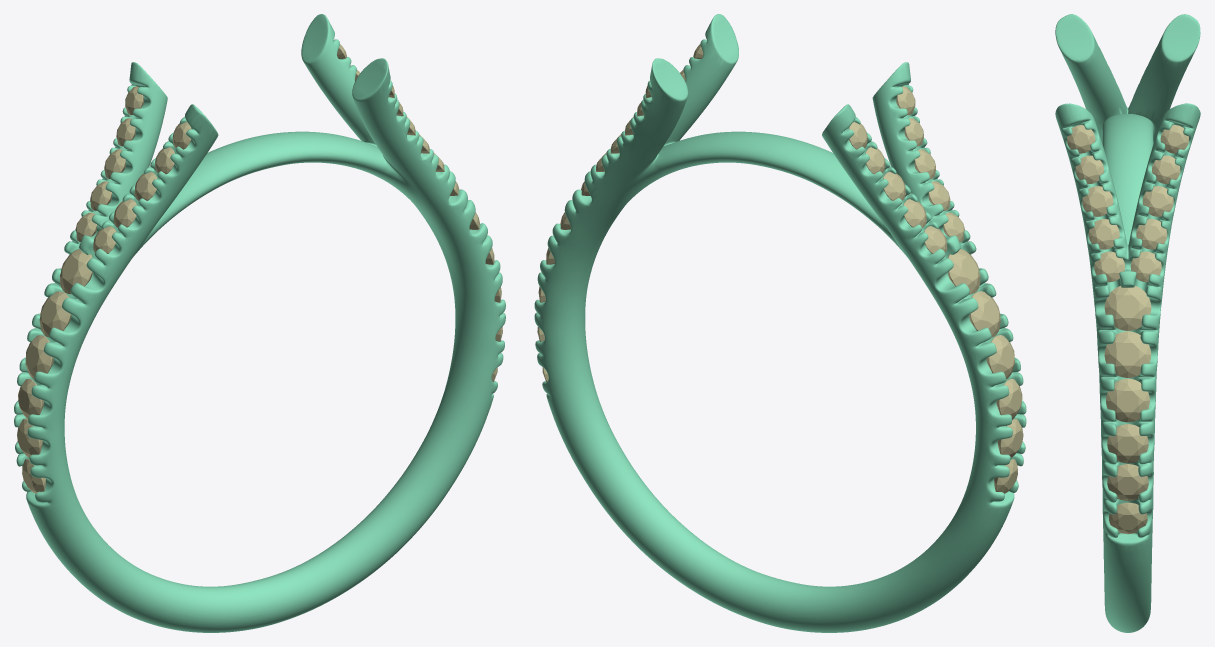
3 views of the same model, side by side, from view 1: azimuth 30°, elevation 25°; view 2: azimuth 150°, elevation 25°; view 3: azimuth 270°, elevation 25° (orthographic). The views are drawn at different scales.
Parts seen in each view (by area): view 1: Metal02, Diamond_Gem.005, Diamond_Gem.004, Diamond_Gem.003; view 2: Metal02, Diamond_Gem.005, Diamond_Gem.004, Diamond_Gem.003; view 3: Metal02, Diamond_Gem.026, Diamond_Gem.027, Diamond_Gem.028, Diamond_Gem.029, Diamond_Gem.030, Diamond_Gem.031, Diamond_Gem.023, Diamond_Gem.018, Diamond_Gem.024, Diamond_Gem.017, Diamond_Gem.016 (+5 smaller).
Part boxes in pixels (bbox=[...]): Metal02: bbox=[14, 14, 505, 632]; Diamond_Gem.005: bbox=[60, 249, 92, 294]; Diamond_Gem.004: bbox=[39, 291, 71, 337]; Diamond_Gem.003: bbox=[25, 335, 53, 378]; Metal02: bbox=[534, 14, 1026, 632]; Diamond_Gem.005: bbox=[948, 249, 980, 294]; Diamond_Gem.004: bbox=[969, 291, 1000, 337]; Diamond_Gem.003: bbox=[986, 335, 1014, 379]; Metal02: bbox=[1055, 14, 1200, 632]; Diamond_Gem.026: bbox=[1104, 286, 1151, 330]; Diamond_Gem.027: bbox=[1104, 331, 1151, 377]; Diamond_Gem.028: bbox=[1106, 378, 1149, 422]; Diamond_Gem.029: bbox=[1107, 424, 1148, 463]; Diamond_Gem.030: bbox=[1107, 464, 1148, 500]; Diamond_Gem.031: bbox=[1109, 502, 1147, 534]; Diamond_Gem.023: bbox=[1082, 186, 1113, 216]; Diamond_Gem.018: bbox=[1142, 186, 1173, 216]; Diamond_Gem.024: bbox=[1088, 219, 1119, 249]; Diamond_Gem.017: bbox=[1136, 219, 1167, 249]; Diamond_Gem.016: bbox=[1130, 251, 1161, 282].
Size of the model in its own units: 20.74 by 23.45 by 5.61.
